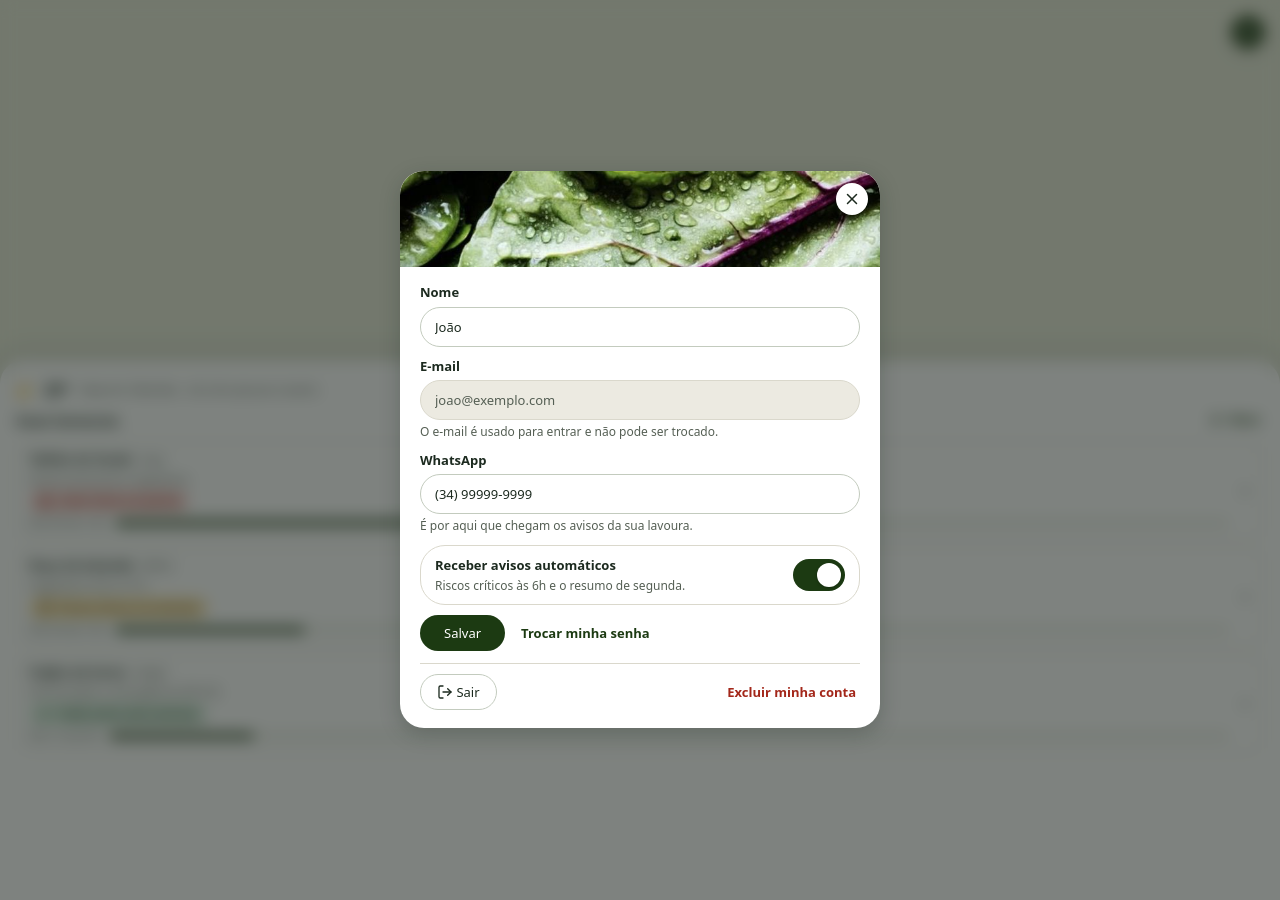
Test: Minha conta › abre numa janela por cima do painel, e o X fecha e volta para o painel
The image size is (1280, 900).
Check: the field labelled "Nome" is shown, box x1=420 y1=307 x2=860 y2=347
What coordinates should you click on to do the following:
click the button named "Fechar"
I would click on:
 (852, 199)
Its box is x1=836 y1=183 x2=868 y2=215.
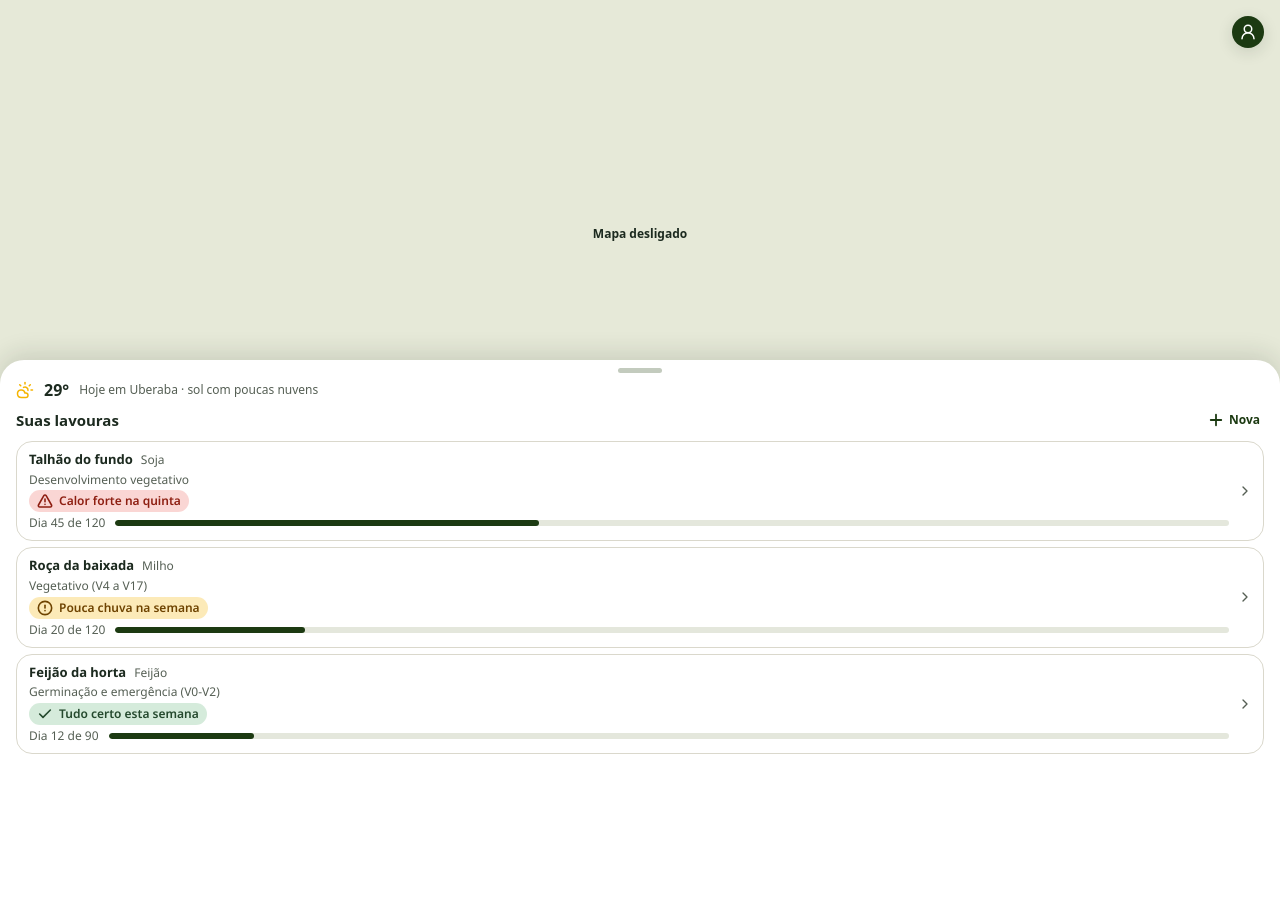
Check: the button "minha conta" is gone
